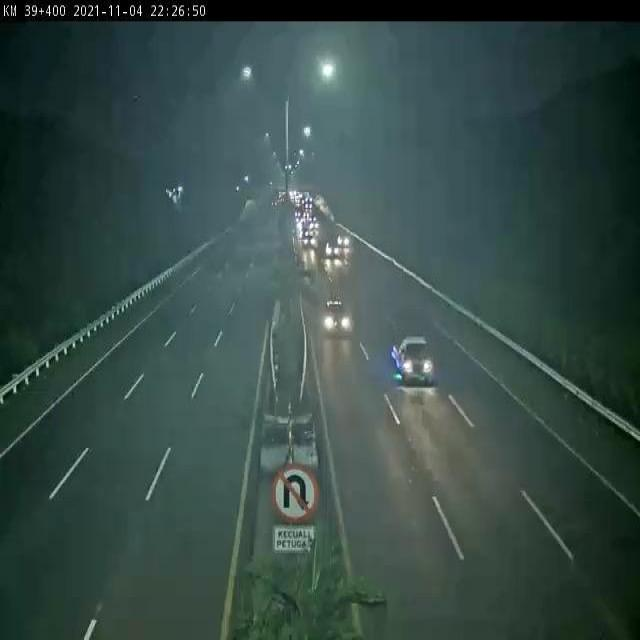car: (322, 300, 350, 336)
truck-m-: (389, 335, 435, 385)
